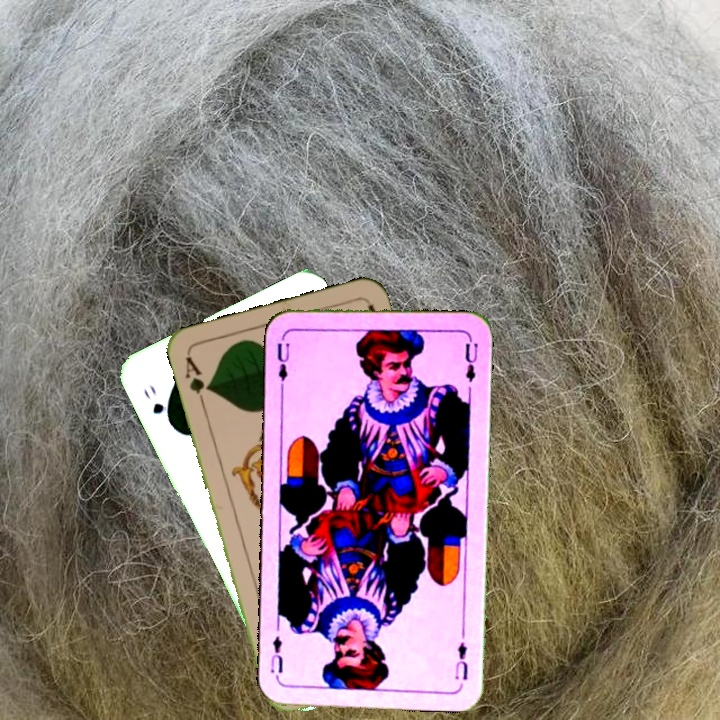EU: (273, 339, 292, 391), (451, 638, 471, 682)
GA: (181, 352, 213, 409)
GO: (140, 381, 175, 428)
